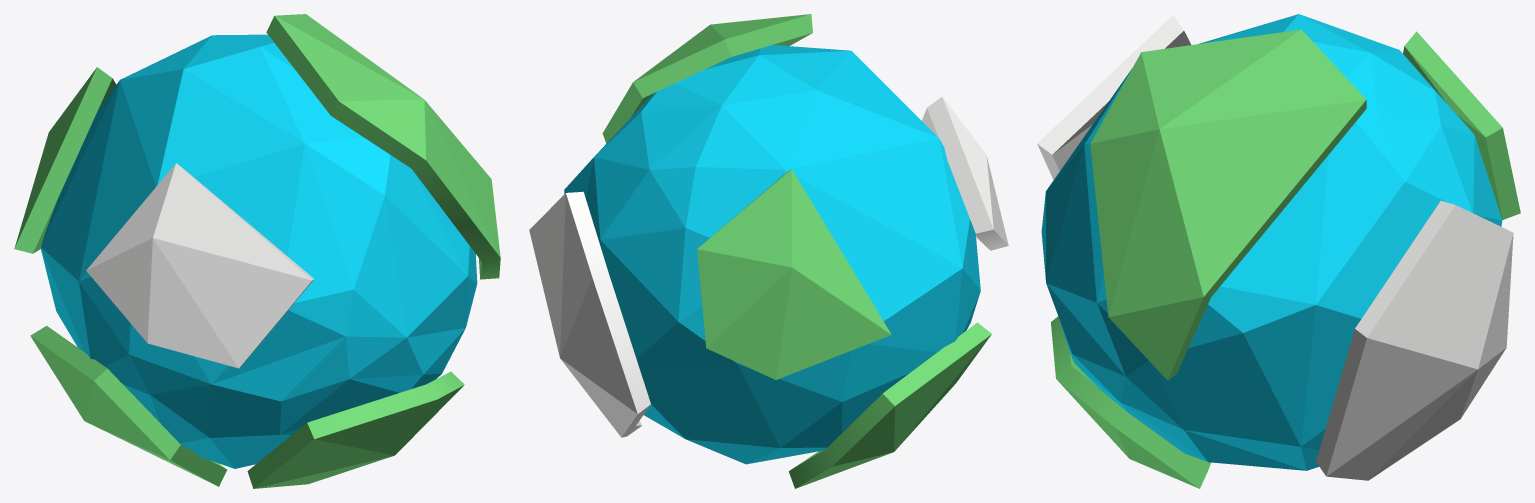
Rendered from Planet_03_a.fbx.
3 renders of one model, left to right at view 1: azimuth 30°, elevation 25°; view 2: azimuth 150°, elevation 25°; view 3: azimuth 270°, elevation 25°, orthographic. The views are drawn at different scales.
Parts seen in each view (by area): view 1: Planet_03; view 2: Planet_03; view 3: Planet_03.
Part boxes in pixels (left/top/right/bottom): Planet_03: left=14, top=14, right=500, bottom=488; Planet_03: left=529, top=14, right=1008, bottom=488; Planet_03: left=1037, top=14, right=1520, bottom=488.
Size of the model in its own units: 75.19 by 77.15 by 74.65.
